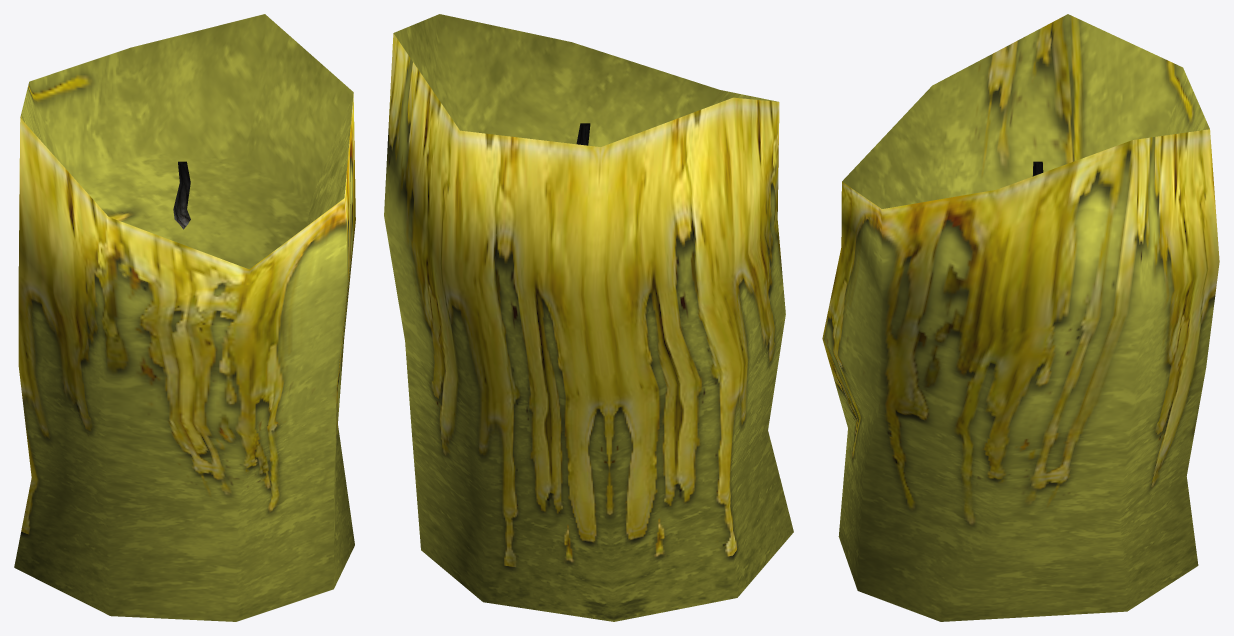
File: Candle_03.fbx
3 renders of one model, left to right at view 1: azimuth 30°, elevation 25°; view 2: azimuth 150°, elevation 25°; view 3: azimuth 270°, elevation 25°, orthographic. The views are drawn at different scales.
Parts seen in each view (by area): view 1: Candle; view 2: Candle; view 3: Candle.
Part boxes in pixels (x1=…): Candle: x1=14, y1=14, x2=355, y2=621; Candle: x1=384, y1=14, x2=793, y2=621; Candle: x1=822, y1=14, x2=1219, y2=621.
Bounding box in the file's own units: 0.1403 × 0.201 × 0.1498.
